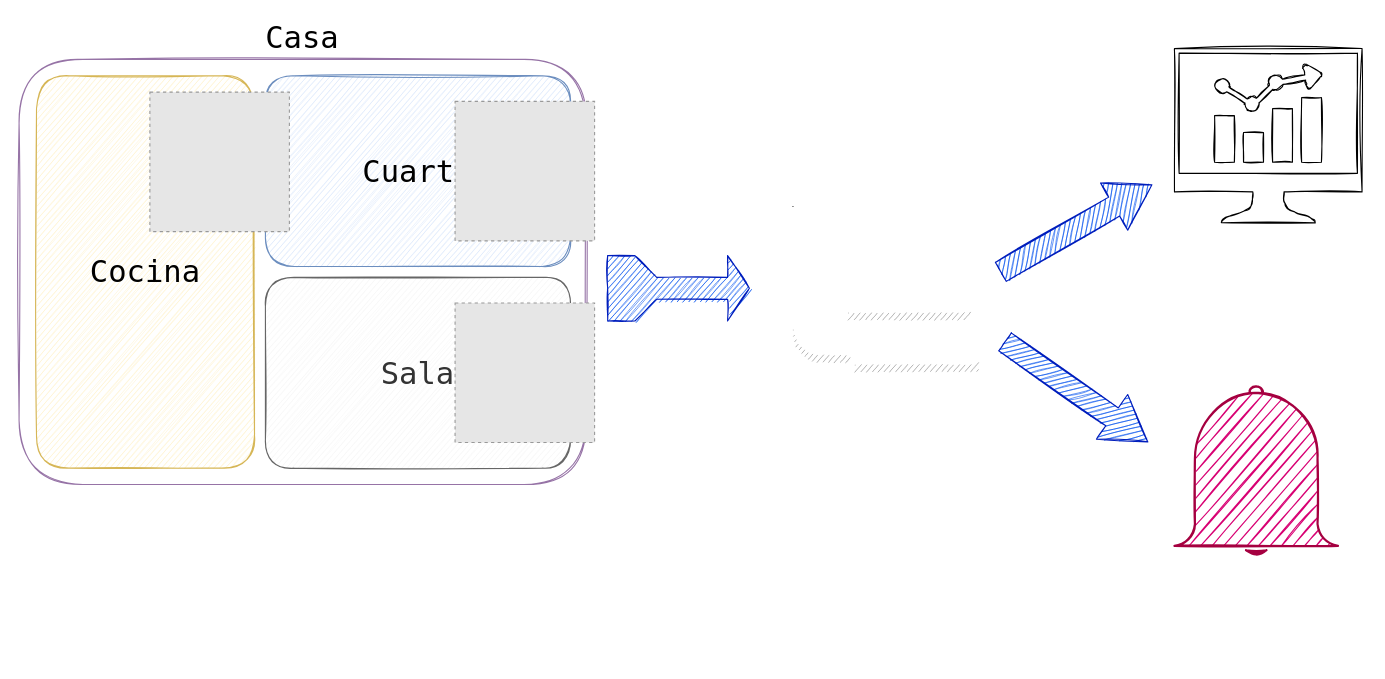
This 1385x679 diagram has some shape labels left out. Grey dashed boxes stand in for pictures. The shapes that lost their labels are listed below. From the top down, each one's centre as x and y in pixels, then its label:
At [1267,135]: "Tablero".
At [1256,470]: "Alarma > 33°".
